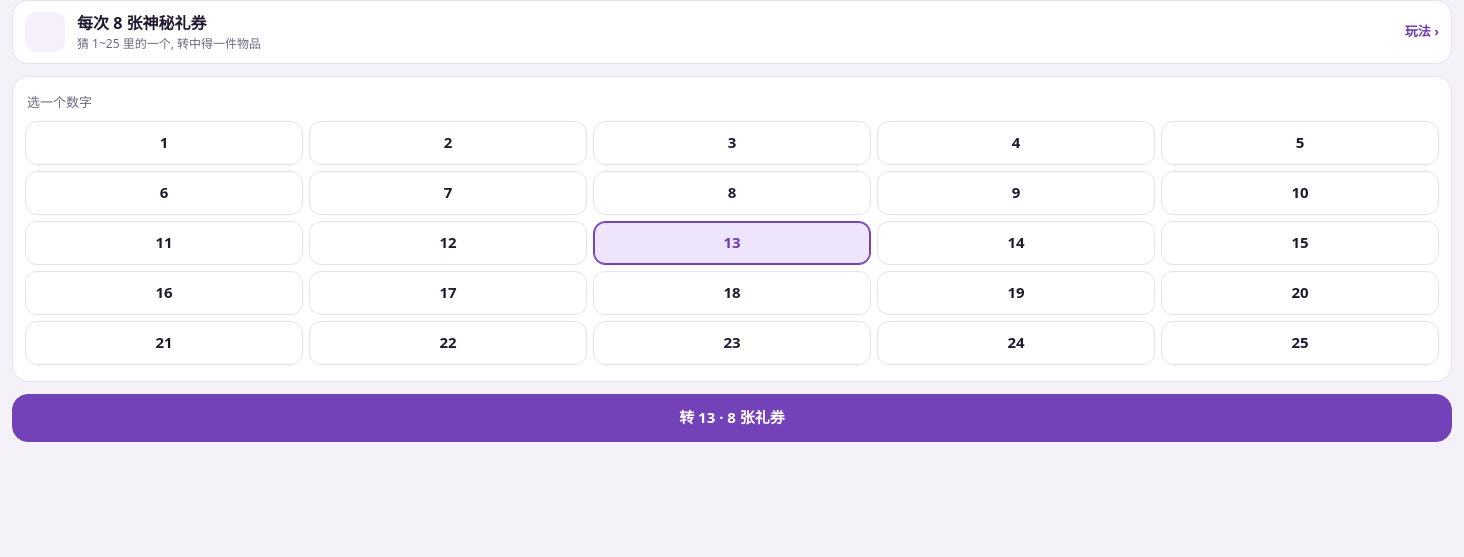
NumPanel › 选数字转；没中时显示转到的数字和提示
The image size is (1464, 557).
Click the button with test id "num-20" at (1300, 292), box [1161, 270, 1439, 314]
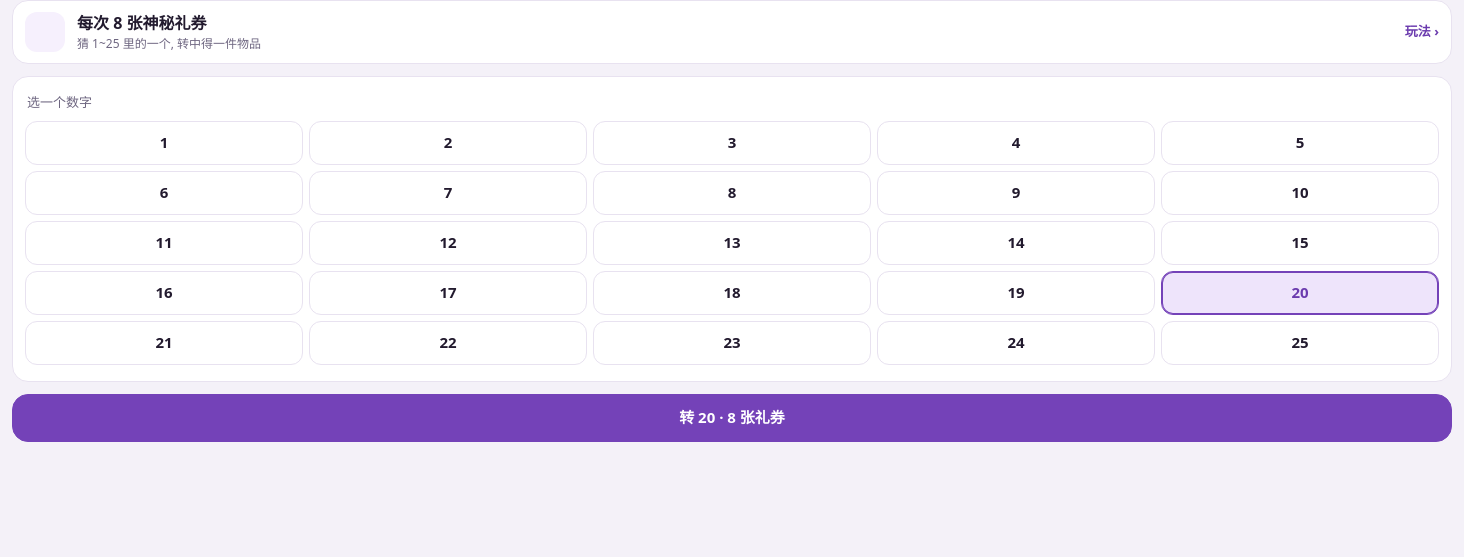
Expected: the button with test id "num-spin" reads "转 20 · 8 张礼券"
Click the button with test id "num-spin" at (732, 418), box [12, 394, 1452, 442]
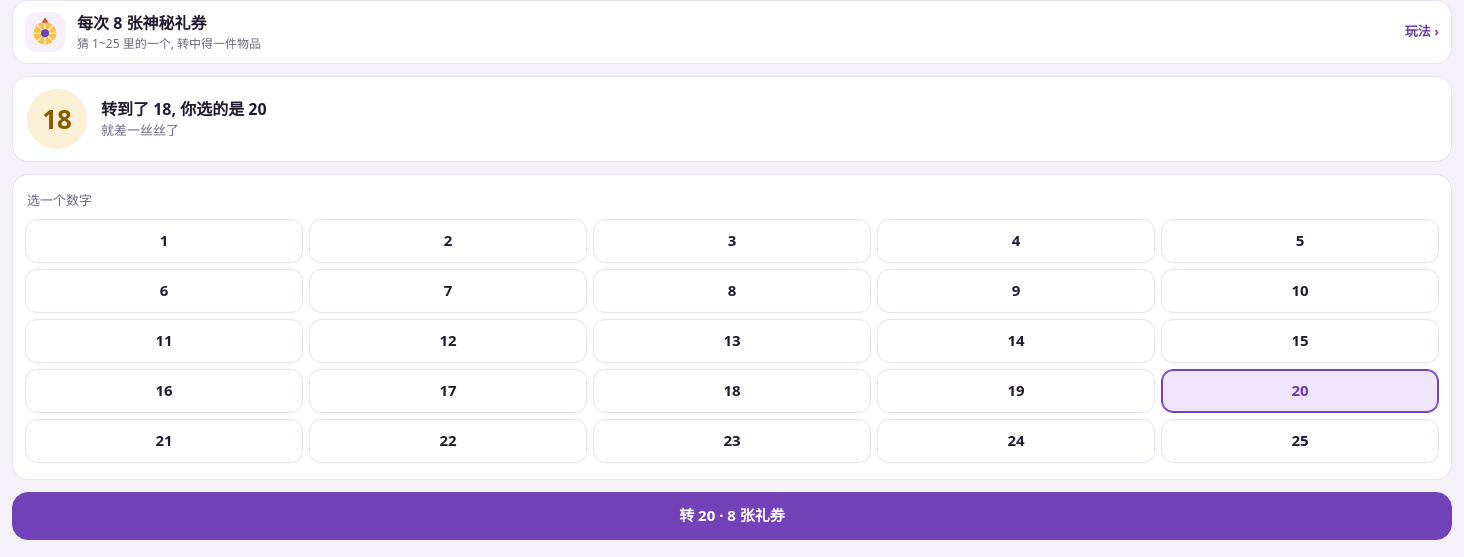
Expected: the text with class "dt-num-ball" reads "18", [42, 100, 72, 136]
Expected: the text "转到了 18, 你选的是 20" is shown, [101, 97, 267, 121]
Expected: the text with class "dt-num-hint" reads "就差一丝丝了", [101, 121, 179, 139]
